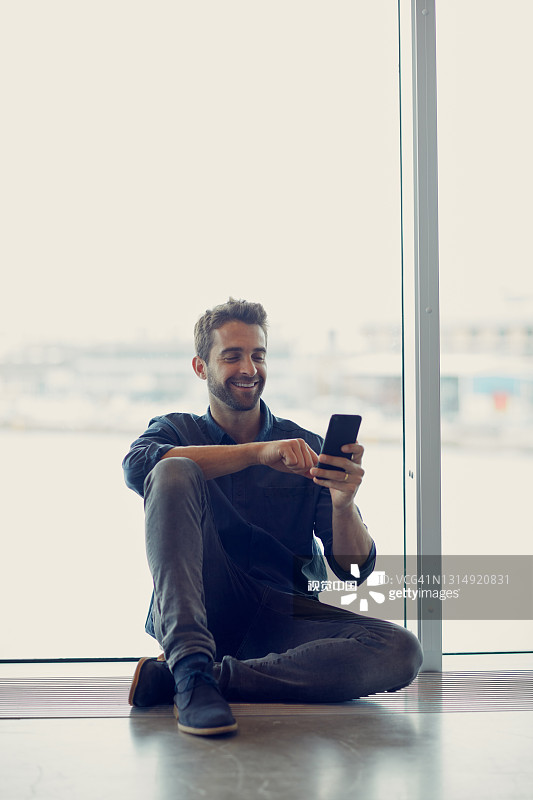reading: (254, 397, 398, 514)
